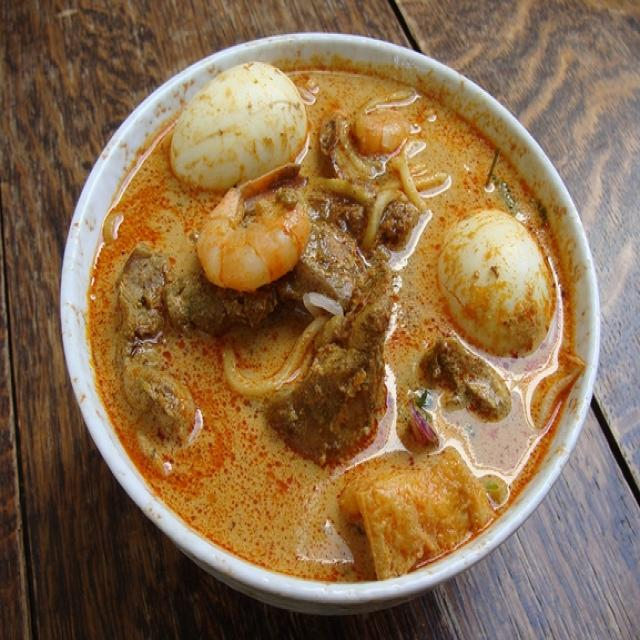面条主食: (70, 18, 615, 625)
